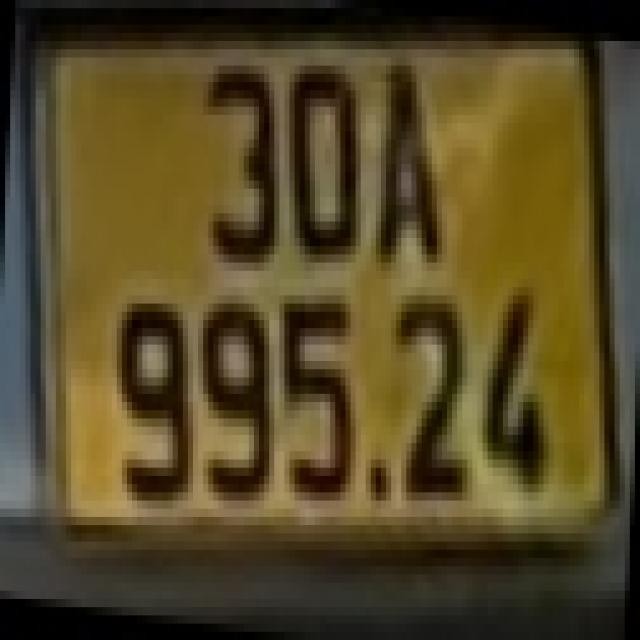0: (290, 58, 360, 262)
2: (391, 287, 472, 501)
3: (203, 58, 280, 262)
4: (478, 279, 554, 509)
5: (280, 287, 356, 501)
9: (112, 296, 193, 500), (198, 296, 274, 500)
A: (371, 57, 452, 271)
